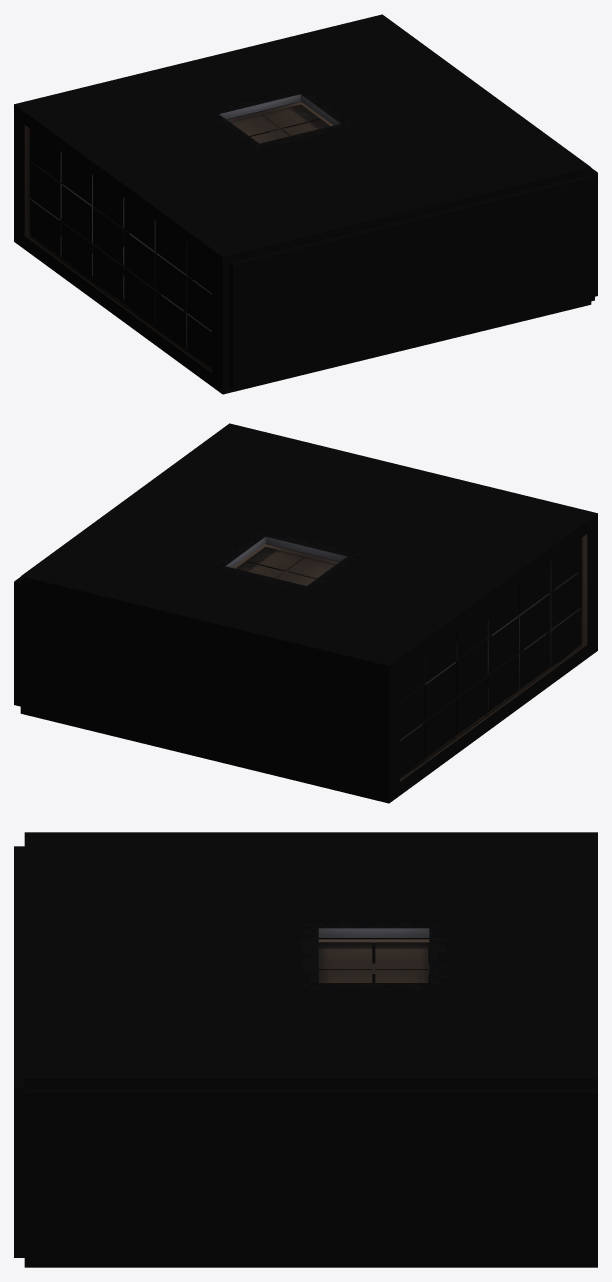
File: Salon1.fbx
3 renders of one model, top to bottom at view 1: azimuth 30°, elevation 25°; view 2: azimuth 150°, elevation 25°; view 3: azimuth 270°, elevation 25°, orthographic. The views are drawn at different scales.
Parts seen in each view (by area): view 1: Object007, Object006; view 2: Object007, Object006; view 3: Object007, Object006.
Part boxes in pixels (bbox=[...]): Object007: bbox=[14, 14, 594, 394]; Object006: bbox=[14, 101, 597, 387]; Object007: bbox=[20, 423, 597, 803]; Object006: bbox=[14, 520, 597, 796]; Object007: bbox=[14, 832, 597, 1257]; Object006: bbox=[24, 938, 597, 1267].
Size of the model in its own units: 203 by 71.2 by 200.
2 materials, 2 textured.
